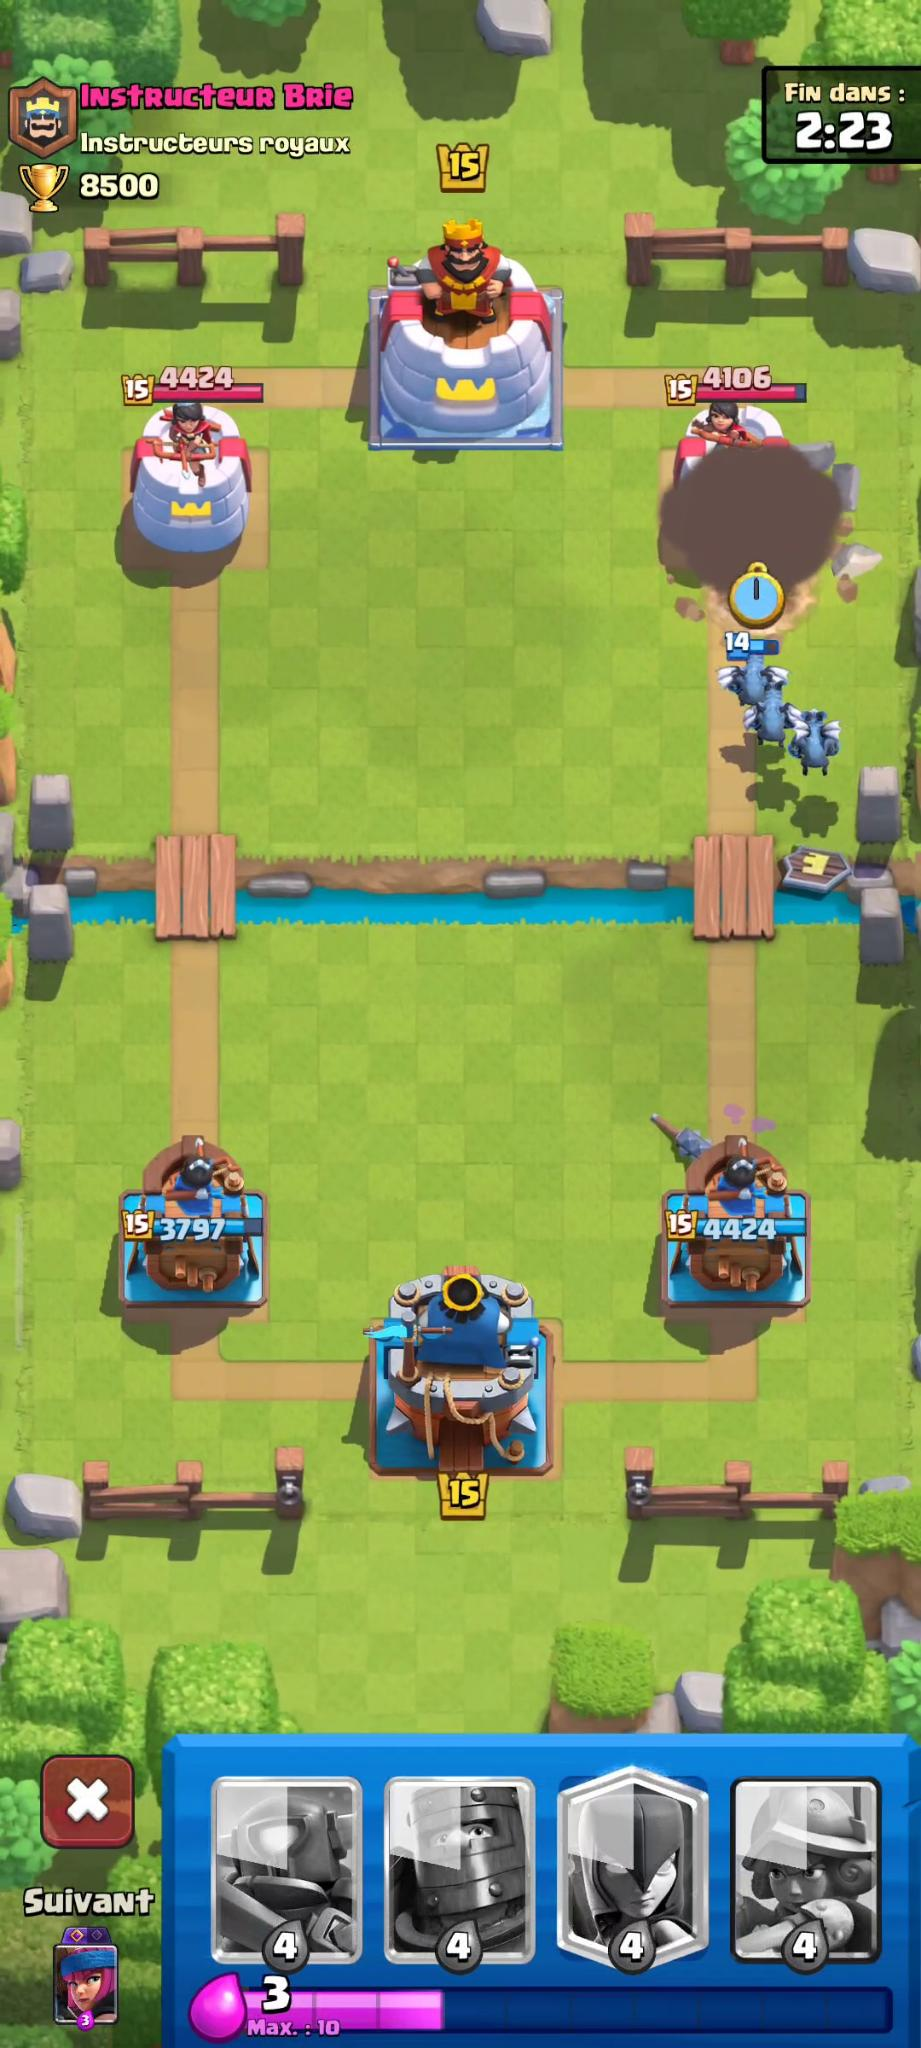gargouille: (719, 630, 794, 708), (788, 707, 847, 777), (746, 686, 803, 752)
